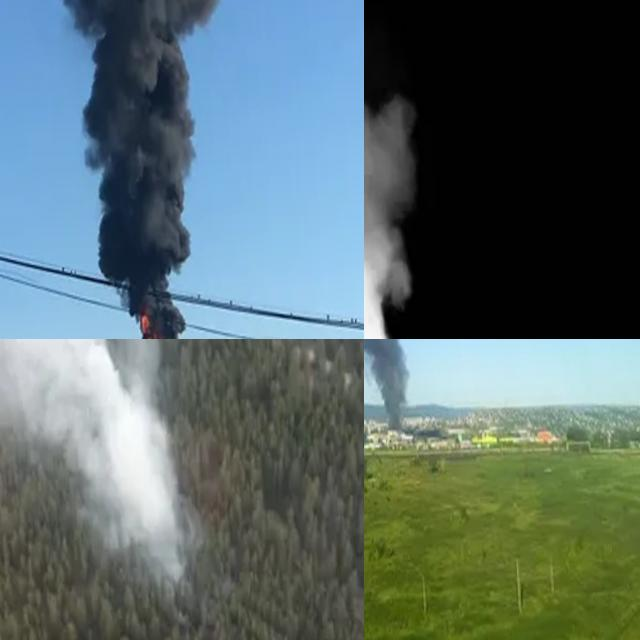smoke: (52, 0, 242, 339), (0, 339, 210, 595), (364, 9, 440, 339)
